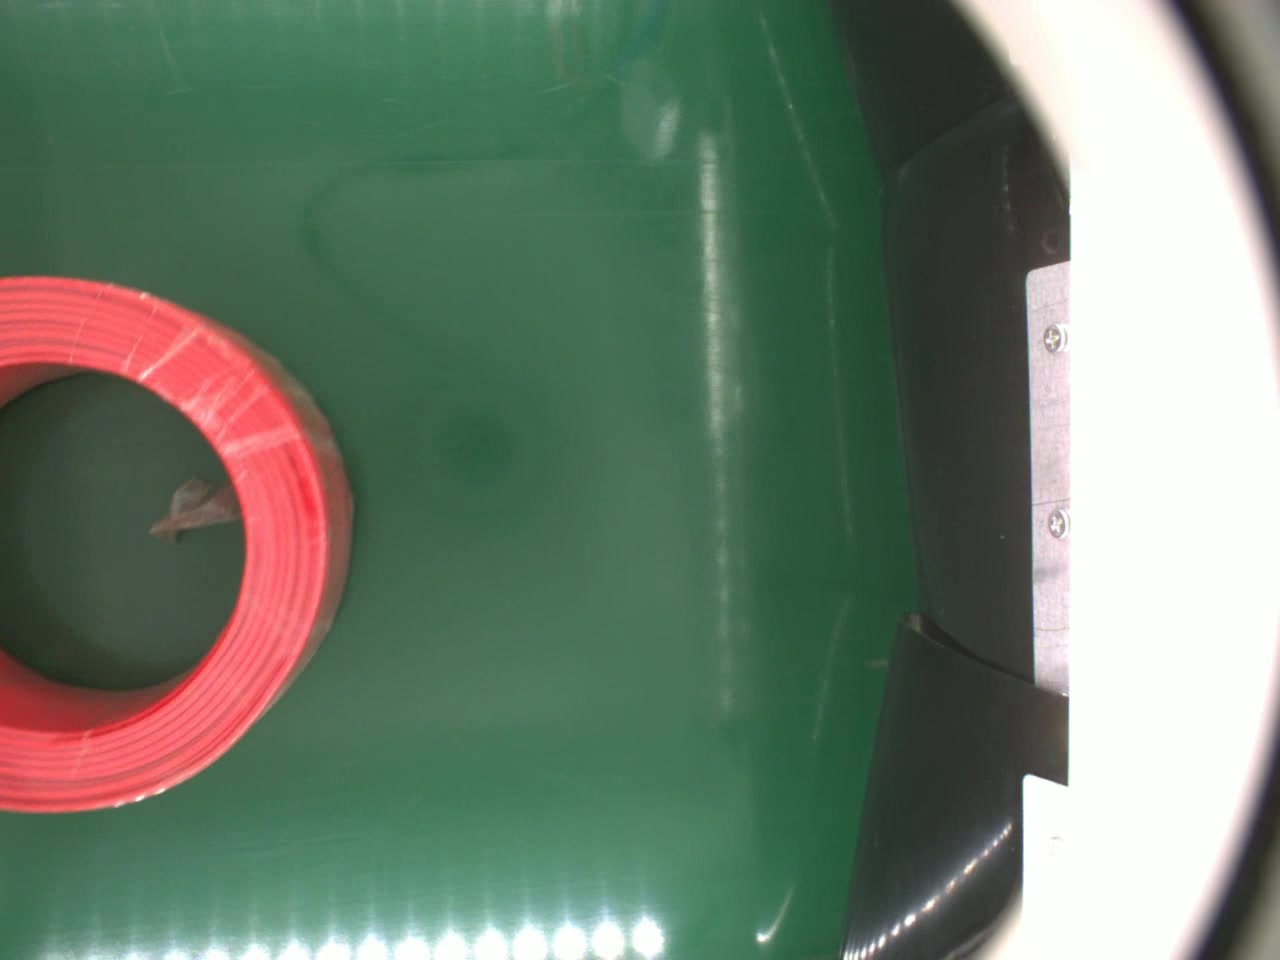red: (0, 273, 354, 812)
